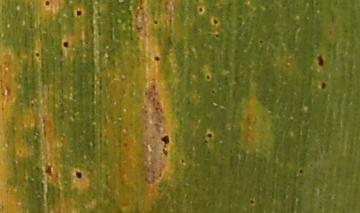tarspot: (314, 53, 329, 68), (72, 169, 85, 181), (194, 4, 207, 16), (73, 8, 85, 19), (320, 79, 329, 93), (210, 16, 221, 27), (160, 134, 170, 146), (160, 147, 171, 157), (202, 72, 213, 82), (212, 31, 223, 41), (61, 40, 71, 49), (153, 54, 162, 64), (257, 38, 267, 47), (33, 51, 42, 60), (246, 199, 256, 206), (205, 132, 213, 140), (152, 18, 160, 26), (297, 168, 306, 175), (178, 159, 188, 165), (202, 137, 209, 144), (43, 1, 51, 7), (210, 89, 217, 95)
